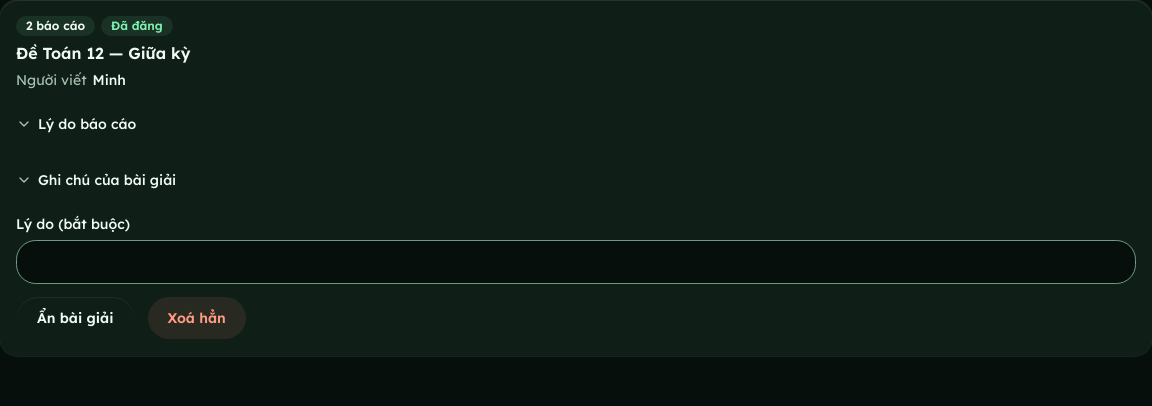
Test: ReportedSolutionRow — Admin refusal tests (nửa bài giải) › action trả lỗi → 'Thao tác chưa thành công. Bạn thử lại nhé.' trong role=alert; nút về nghỉ; huy hiệu trạng thái không đổi
Type "Spam" into the field labelled "Lý do (bắt buộc)". click: {"x": 576, "y": 262}
box: x1=16 y1=240 x2=1136 y2=284
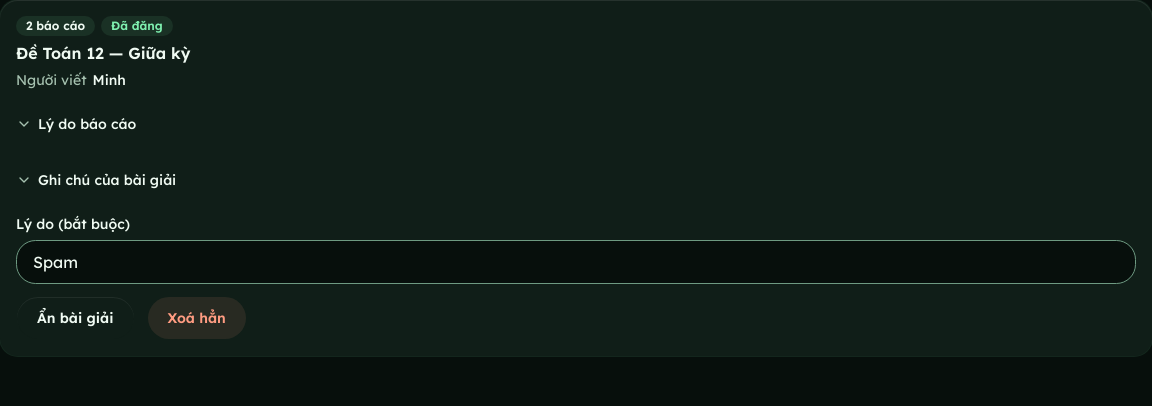
Click the button "Ẩn bài giải". click: {"x": 75, "y": 318}
box: x1=16 y1=296 x2=134 y2=340
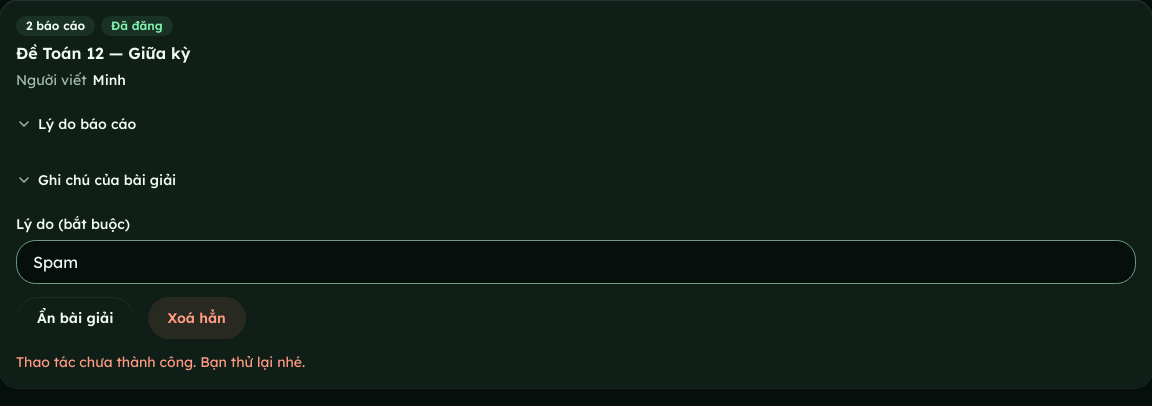
Expected: the text "Đã đăng" is shown, x1=101 y1=16 x2=173 y2=36
Expected: the message reads "Thao tác chưa thành công. Bạn thử lại nhé.", x1=16 y1=353 x2=305 y2=371
